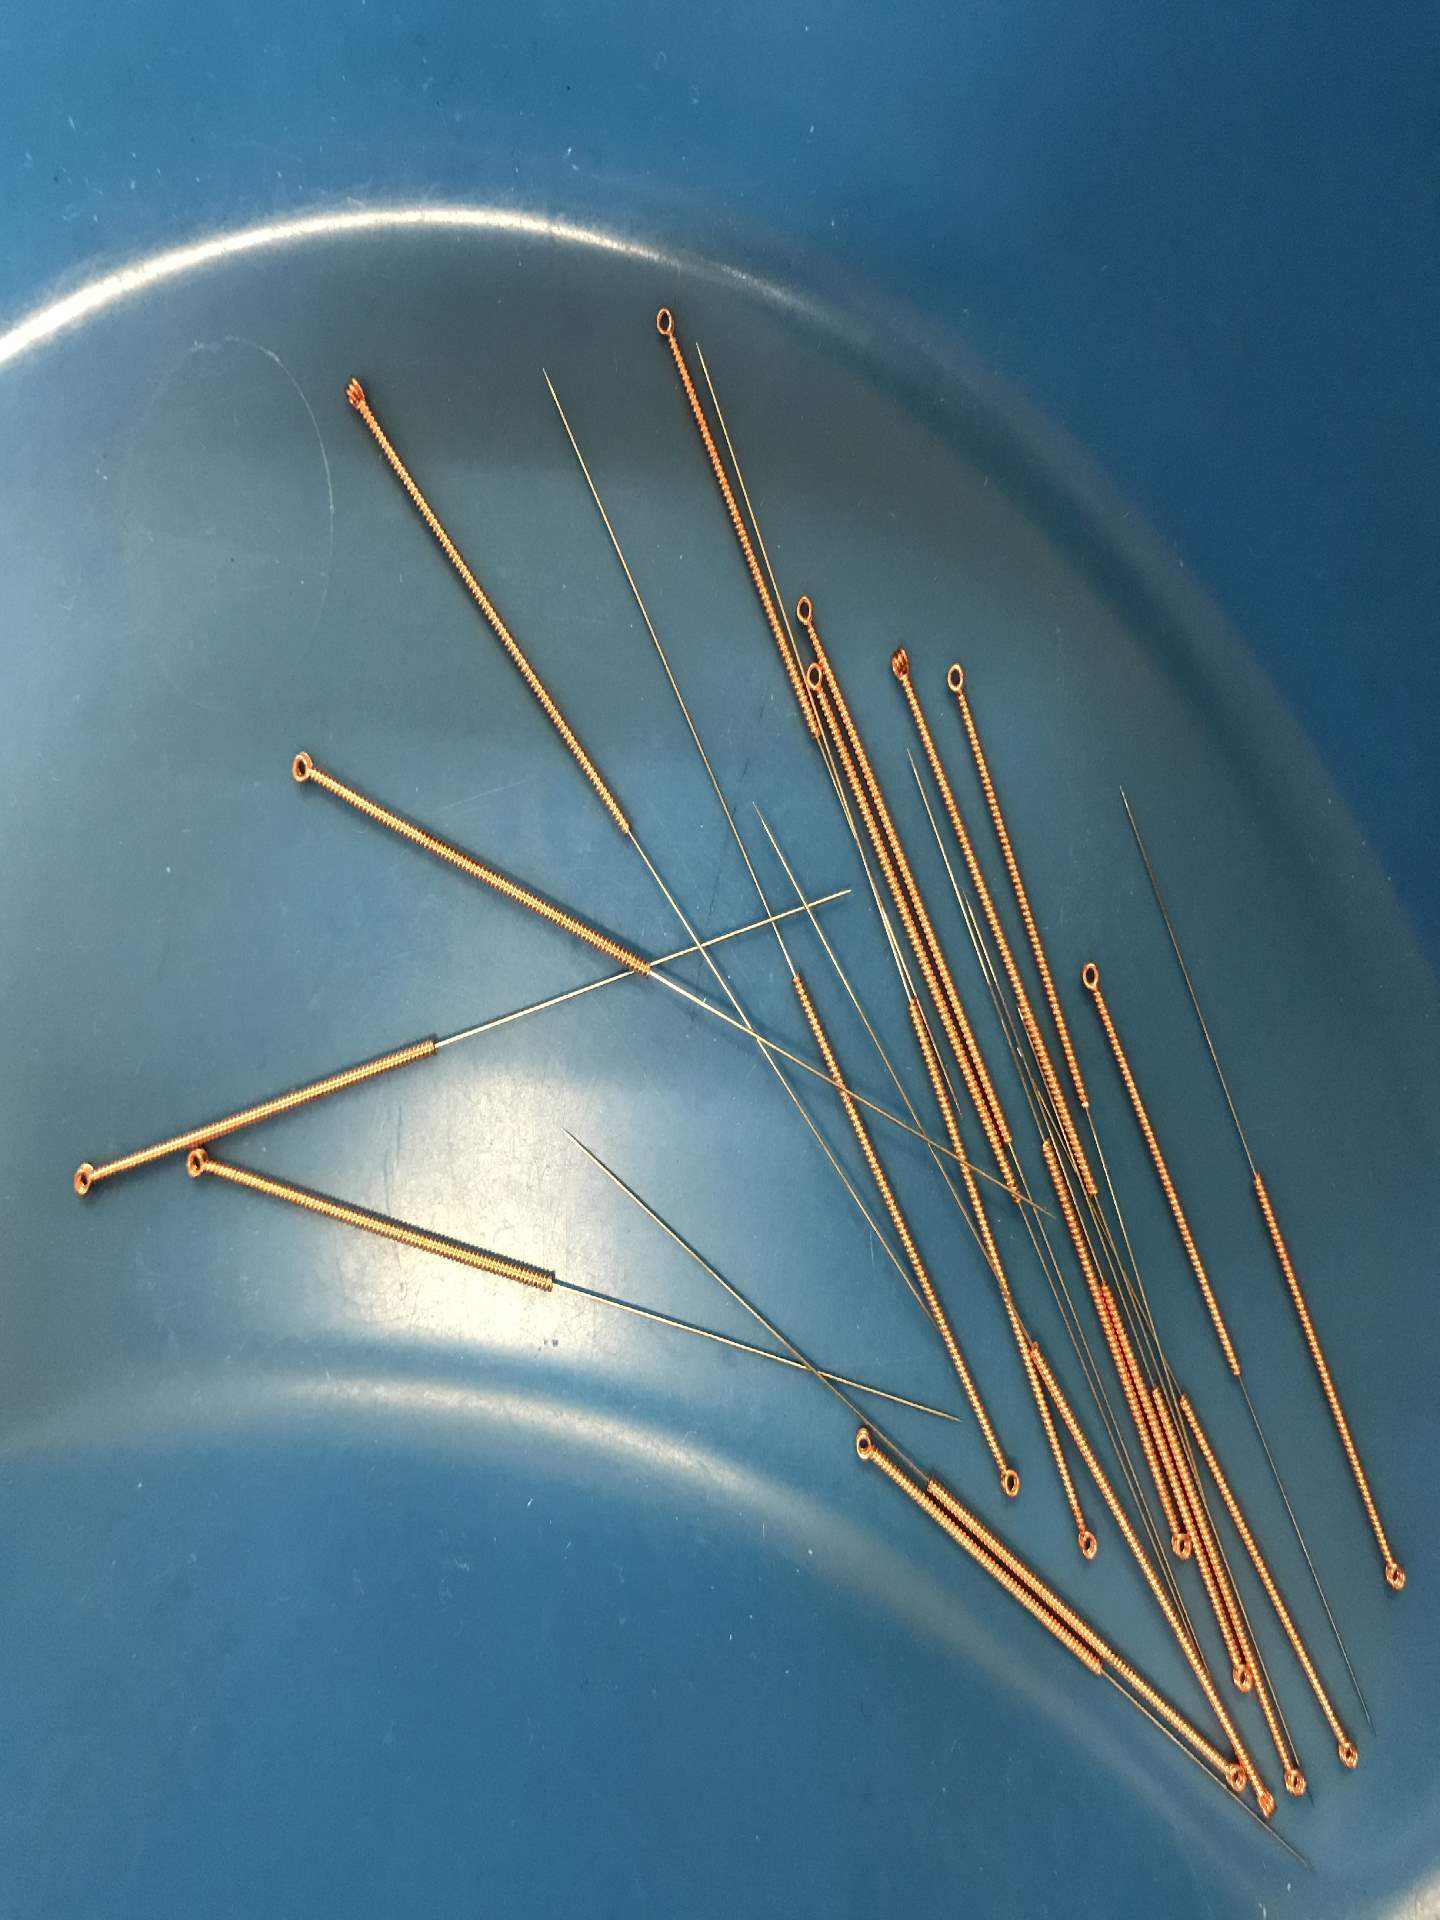needle: (53, 1150, 109, 1206), (1063, 1513, 1109, 1575), (278, 742, 328, 795), (985, 1454, 1033, 1509), (644, 298, 690, 348), (843, 1418, 885, 1471), (877, 639, 920, 691), (1373, 1547, 1414, 1599), (936, 655, 976, 709), (1324, 1726, 1367, 1775), (1275, 1757, 1317, 1804), (334, 369, 374, 419), (175, 1147, 219, 1188), (788, 588, 823, 639), (1075, 951, 1109, 1002), (1222, 1651, 1252, 1695), (1251, 1782, 1284, 1822), (1163, 1521, 1193, 1563), (1215, 1758, 1248, 1796), (803, 659, 826, 701)
